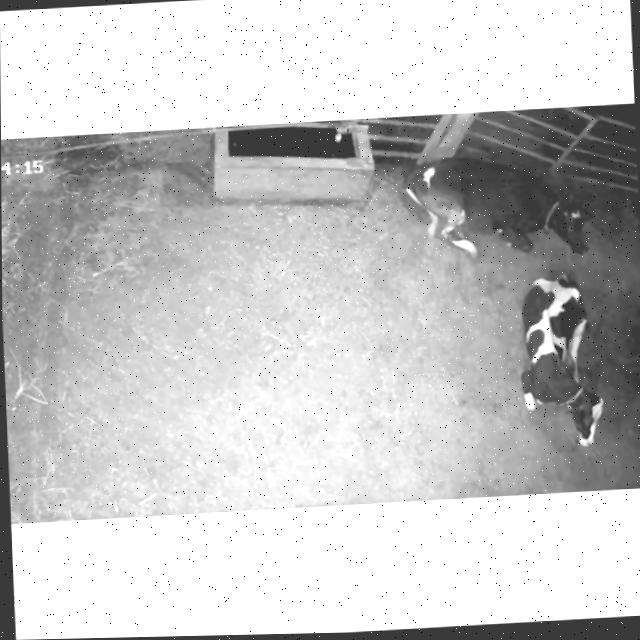lay: (399, 141, 605, 268), (503, 257, 619, 465)
